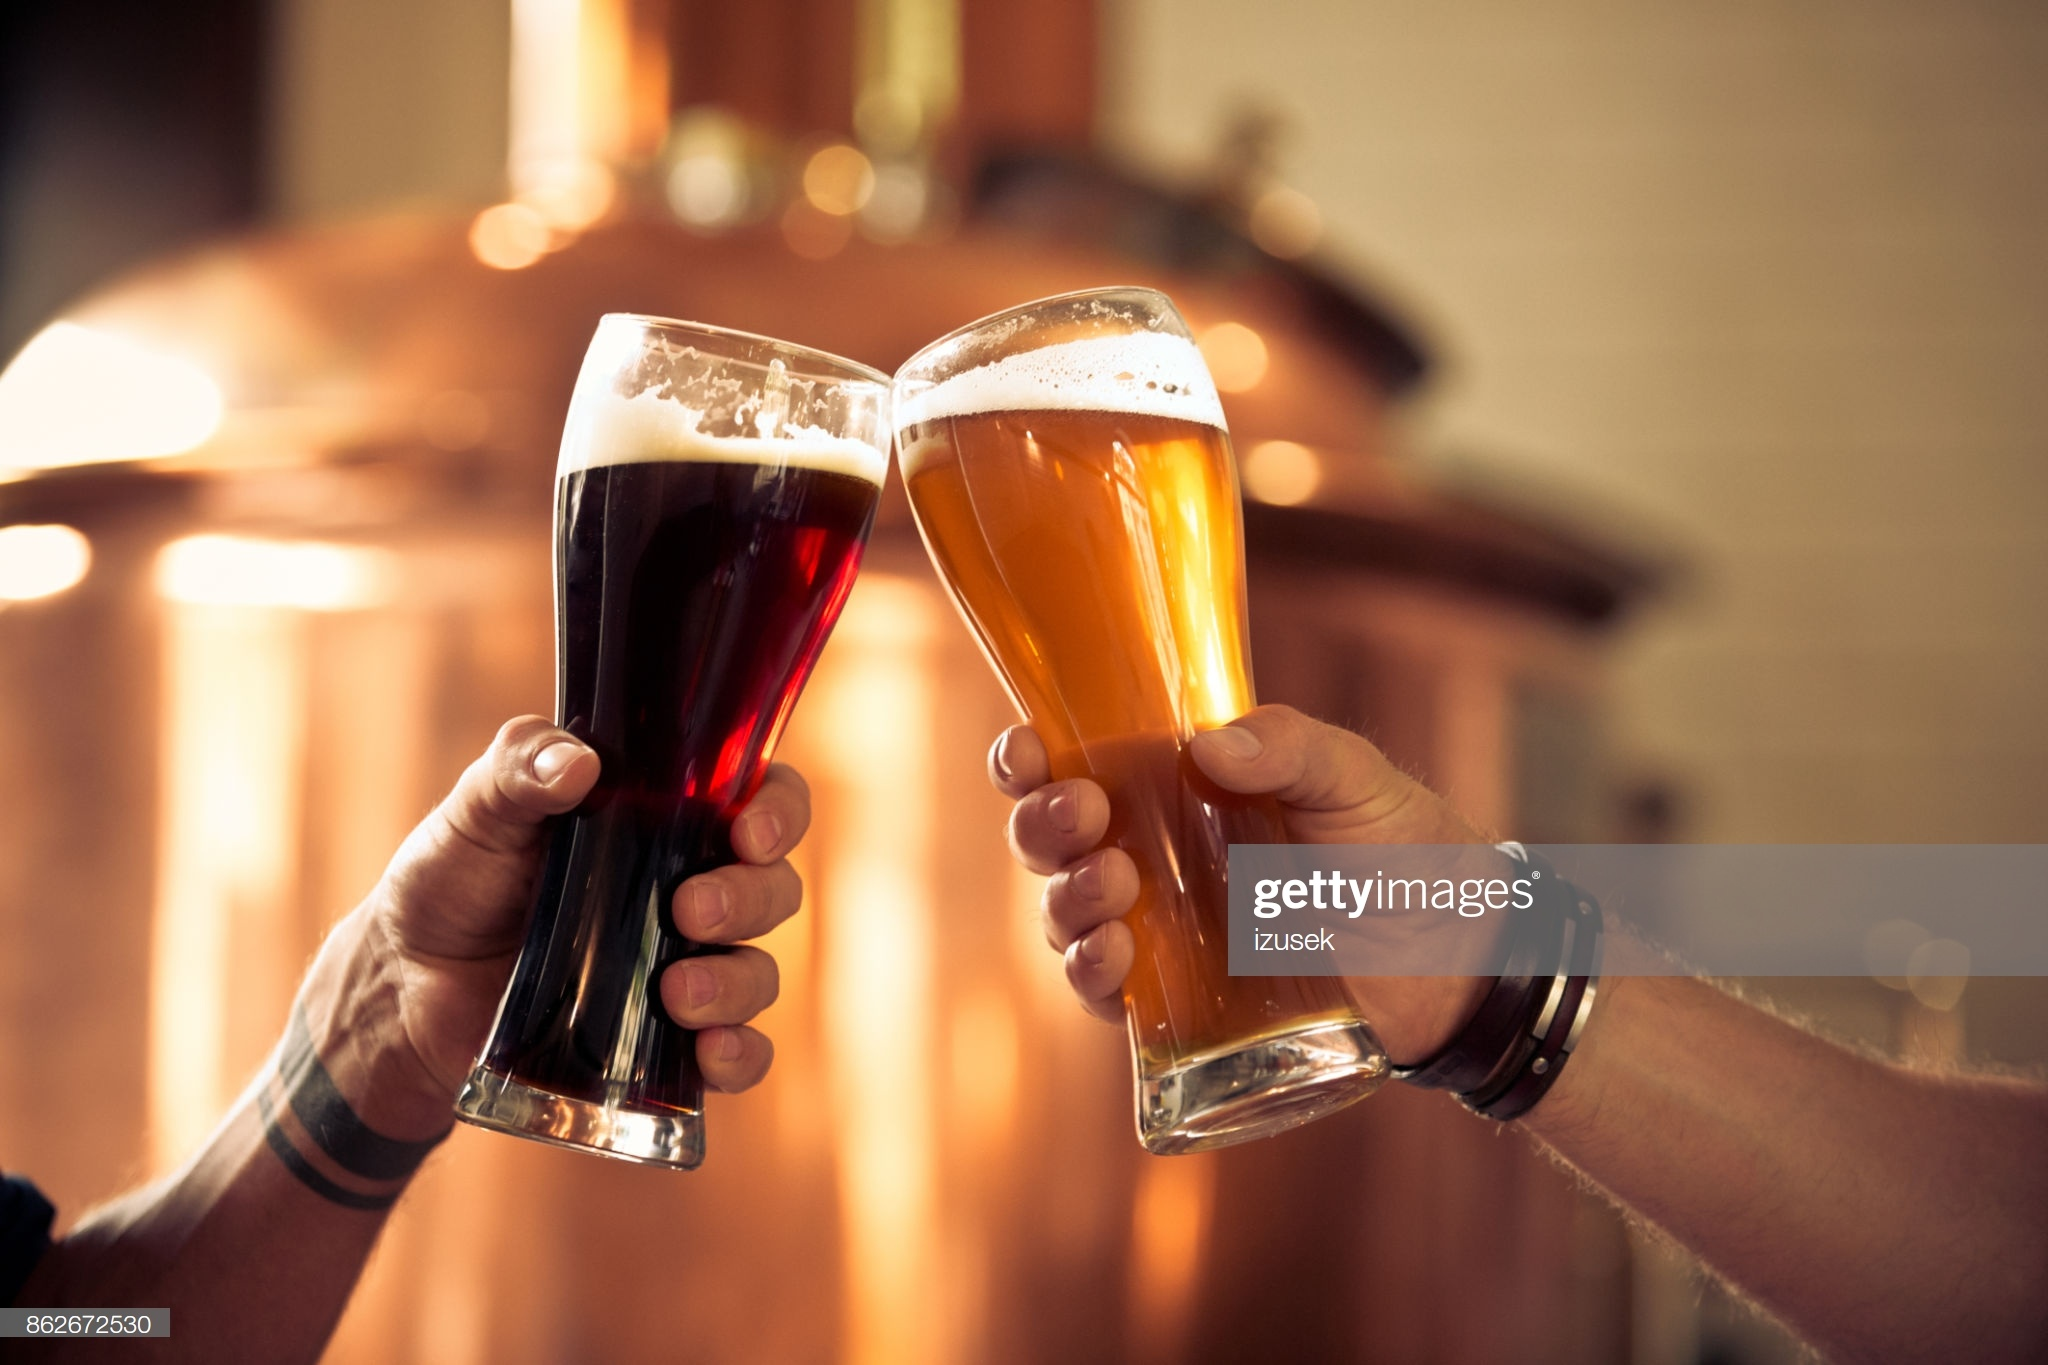glassBeer: (918, 273, 1378, 1143), (471, 305, 895, 1172)
